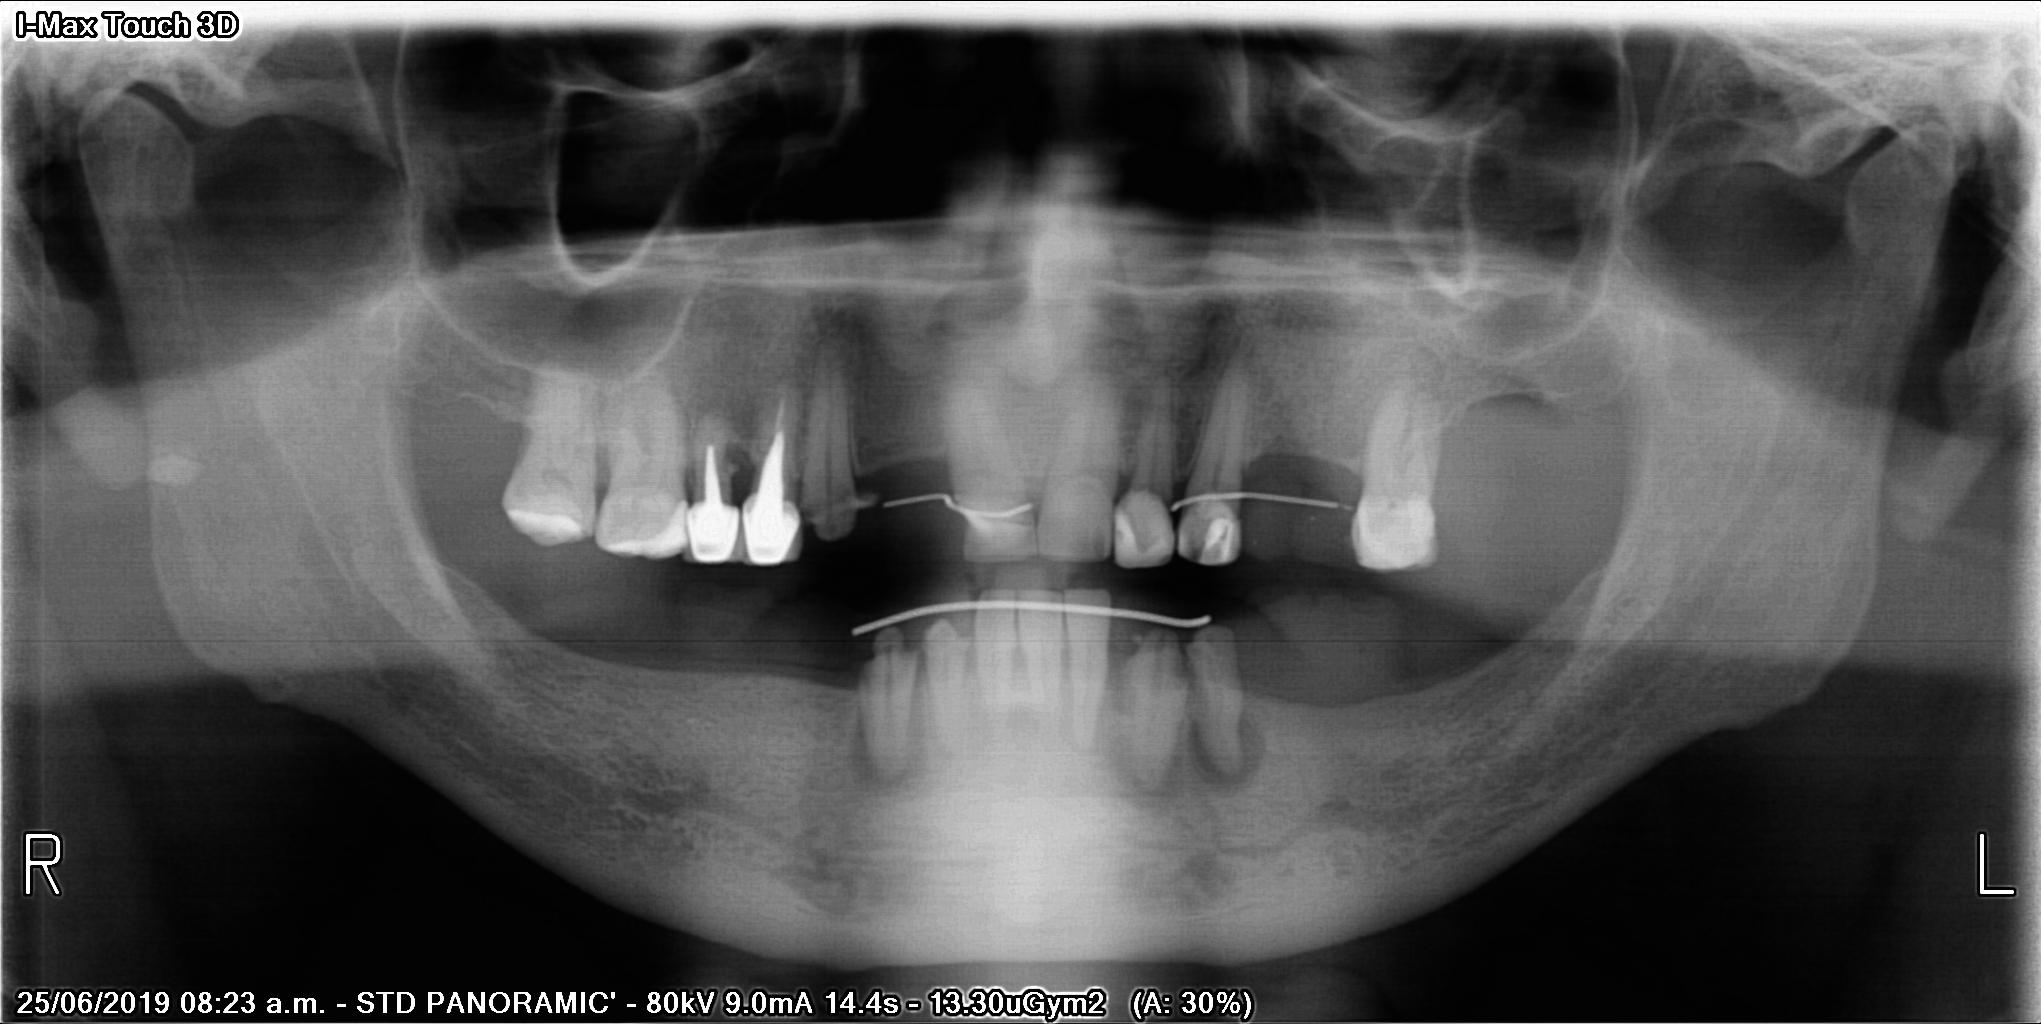Çürük: (742, 410, 810, 576), (684, 434, 739, 573), (1352, 496, 1440, 575), (598, 494, 687, 566), (499, 488, 588, 552), (1190, 508, 1244, 576)
